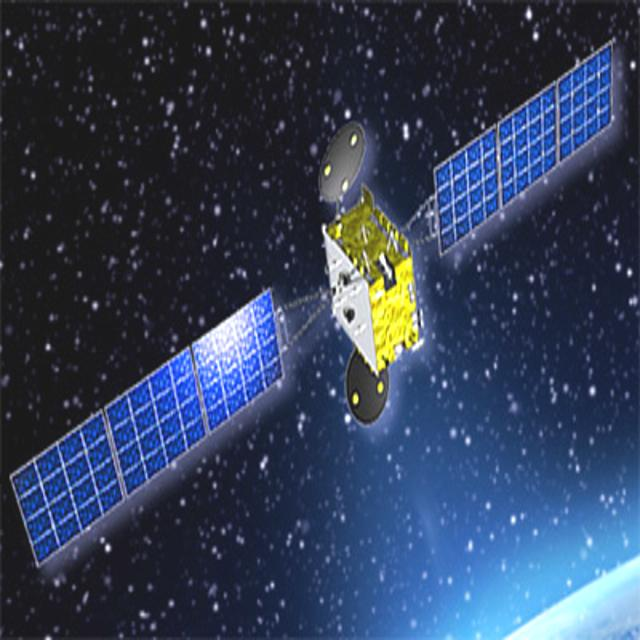medium_debris: (0, 3, 638, 576)
